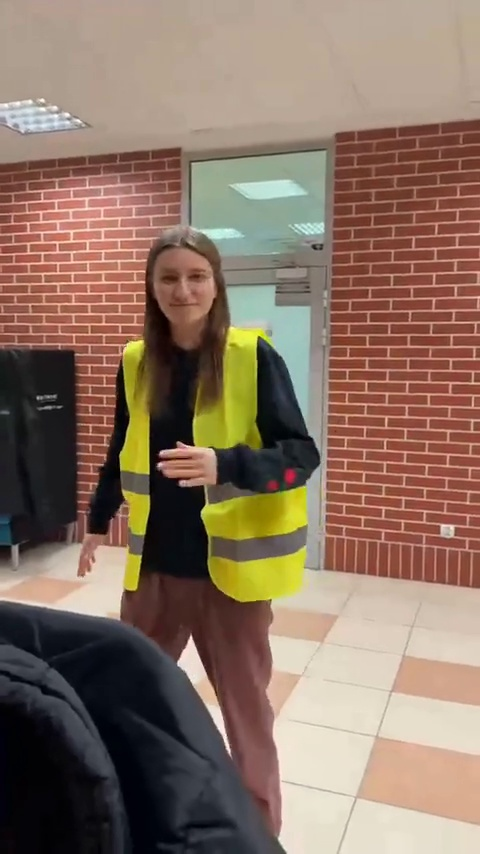vest: (78, 226, 325, 837)
